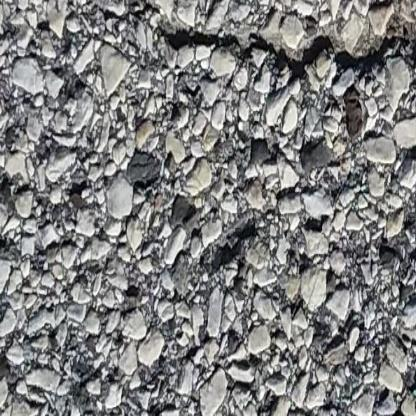Cracks: (157, 15, 416, 83)
